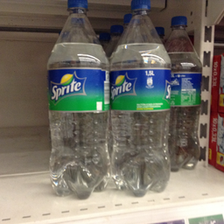soda: (46, 1, 111, 200), (111, 1, 171, 198), (165, 16, 202, 170)
